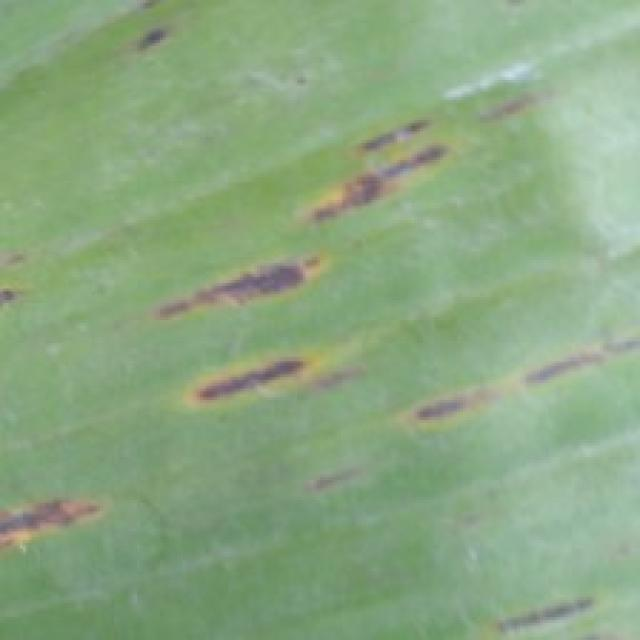Early_leaf_spot: (267, 74, 559, 239), (372, 329, 638, 449), (132, 241, 335, 340), (142, 342, 352, 413), (0, 459, 114, 571), (465, 570, 640, 639), (114, 0, 179, 94), (289, 443, 366, 505), (0, 226, 35, 336)
